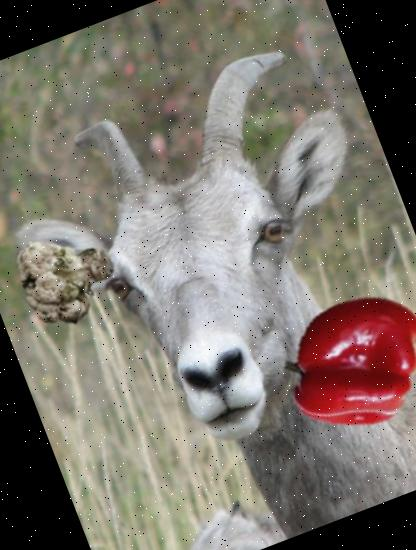Cauliflower: (6, 214, 130, 340)
Pepper: (262, 268, 416, 453)
